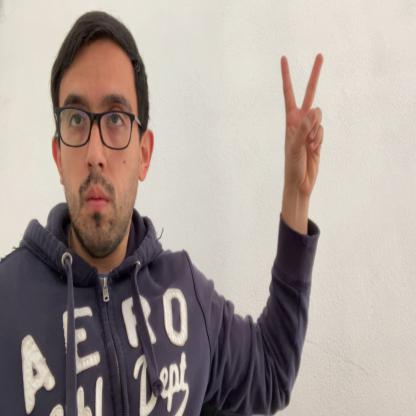V: (280, 53, 326, 205)
